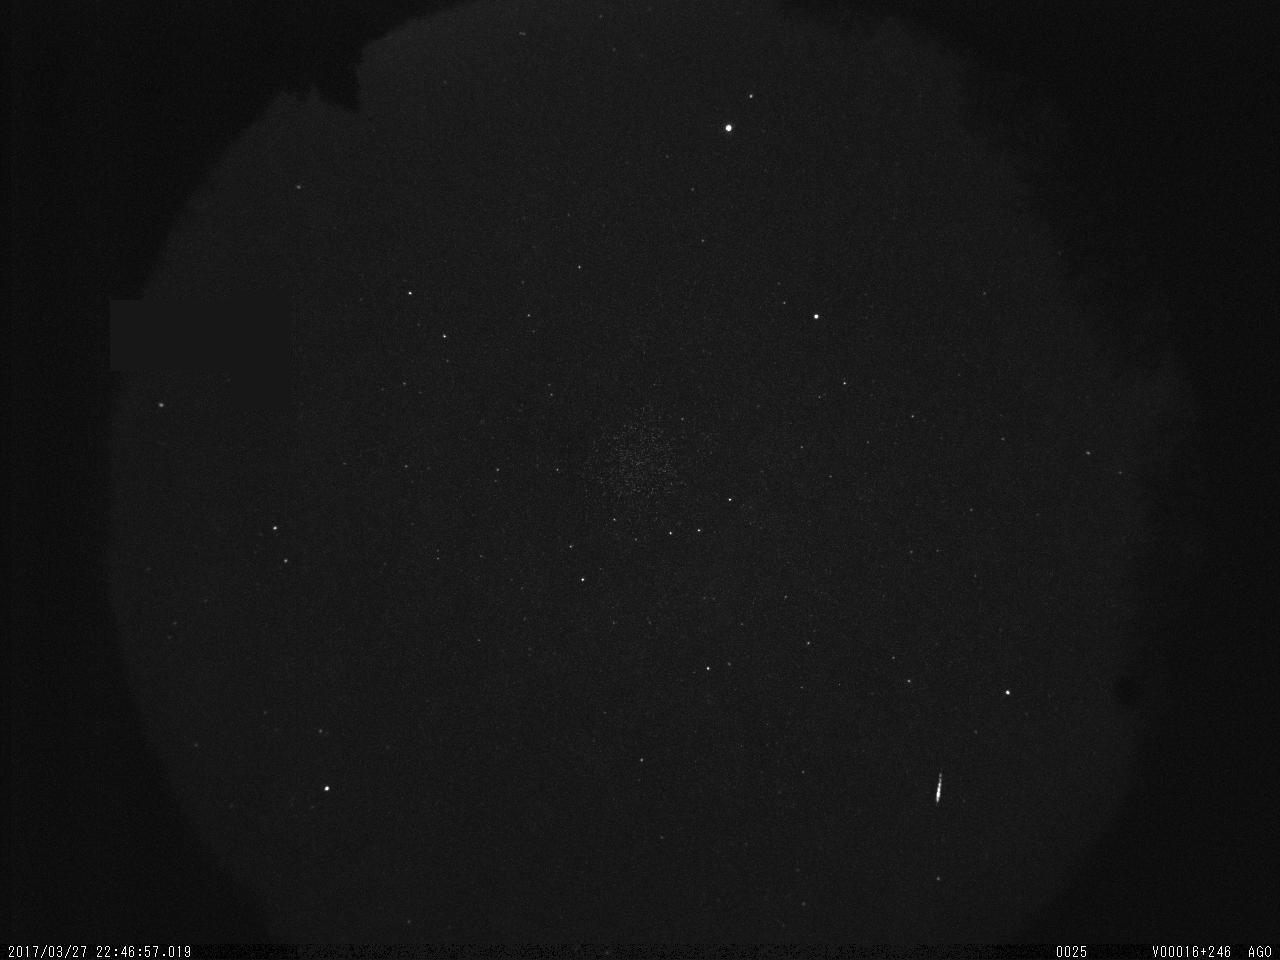Meteor: (932, 769, 944, 804)
